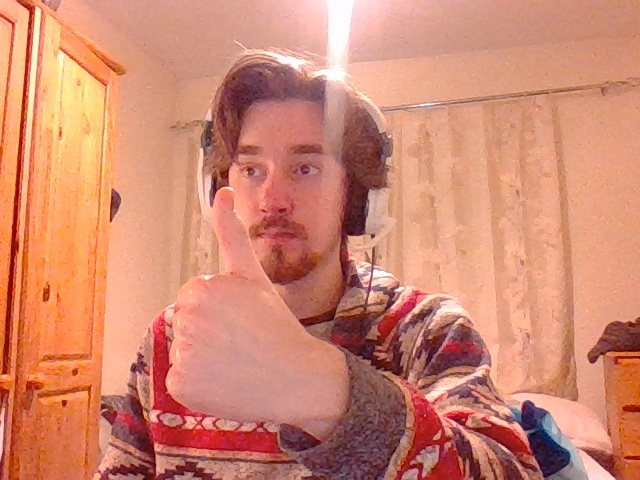good: (164, 187, 287, 421)
